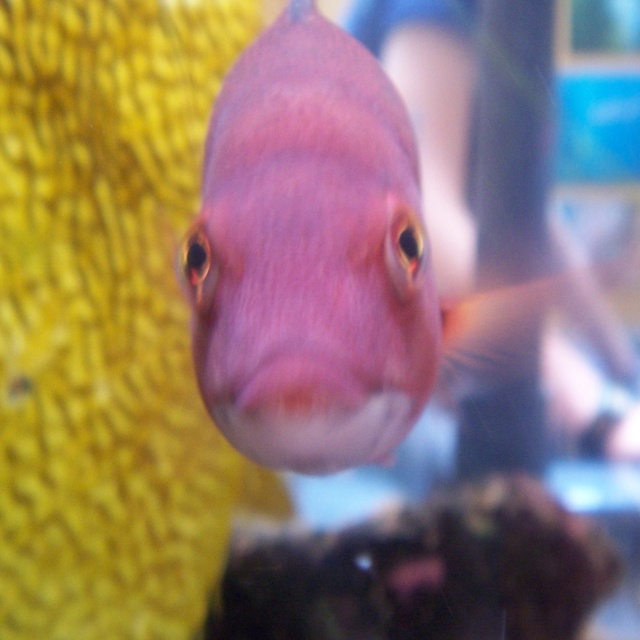Fish: (176, 0, 581, 483)
